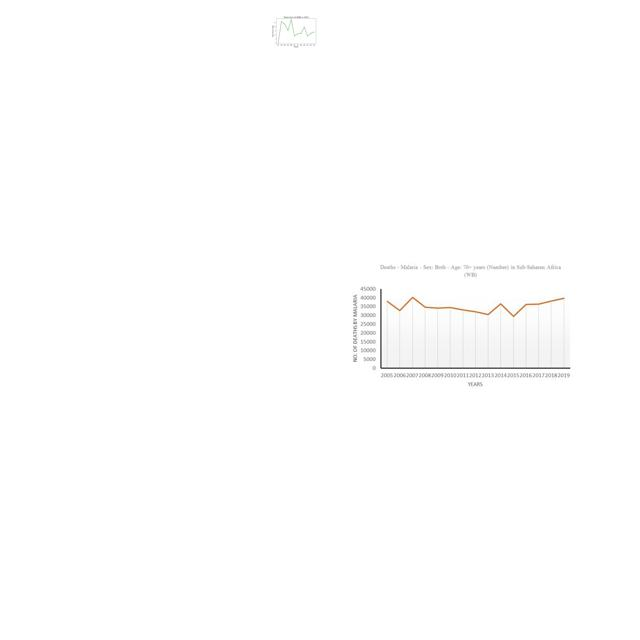Graph: (347, 262, 576, 392), (270, 12, 321, 50)
